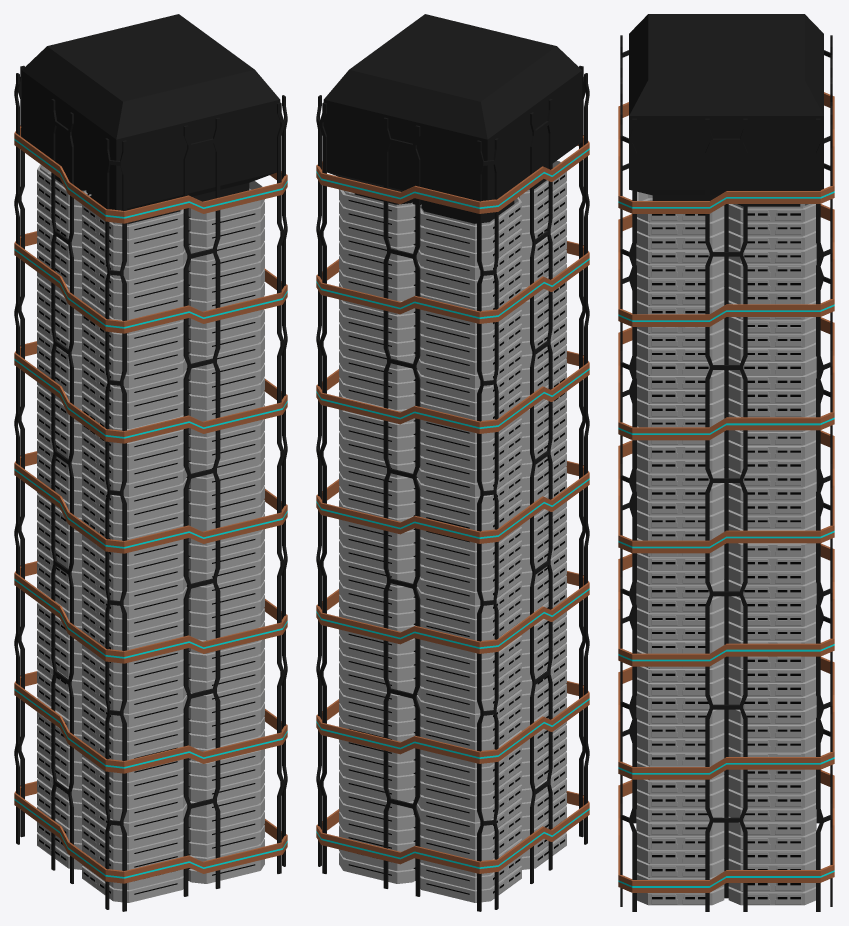
The model's file is MegaTower_square.fbx.
The picture shows the model from 3 angles, left to right: view 1: azimuth 30°, elevation 25°; view 2: azimuth 150°, elevation 25°; view 3: azimuth 270°, elevation 25°; orthographic projection. The views are drawn at different scales.
Parts seen in each view (by area): view 1: LivingCells, Exterior, Tower; view 2: LivingCells, Exterior, Tower; view 3: LivingCells, Exterior, Tower.
Boxes of the visible parts, bbox=[...] form: LivingCells: bbox=[37, 164, 264, 902]; Exterior: bbox=[14, 65, 287, 911]; Tower: bbox=[21, 14, 280, 880]; LivingCells: bbox=[339, 160, 566, 902]; Exterior: bbox=[316, 65, 589, 911]; Tower: bbox=[323, 14, 582, 880]; LivingCells: bbox=[636, 191, 816, 905]; Exterior: bbox=[618, 35, 834, 911]; Tower: bbox=[629, 14, 823, 898].
Size of the model in its own units: 98.4 by 411 by 98.4.
